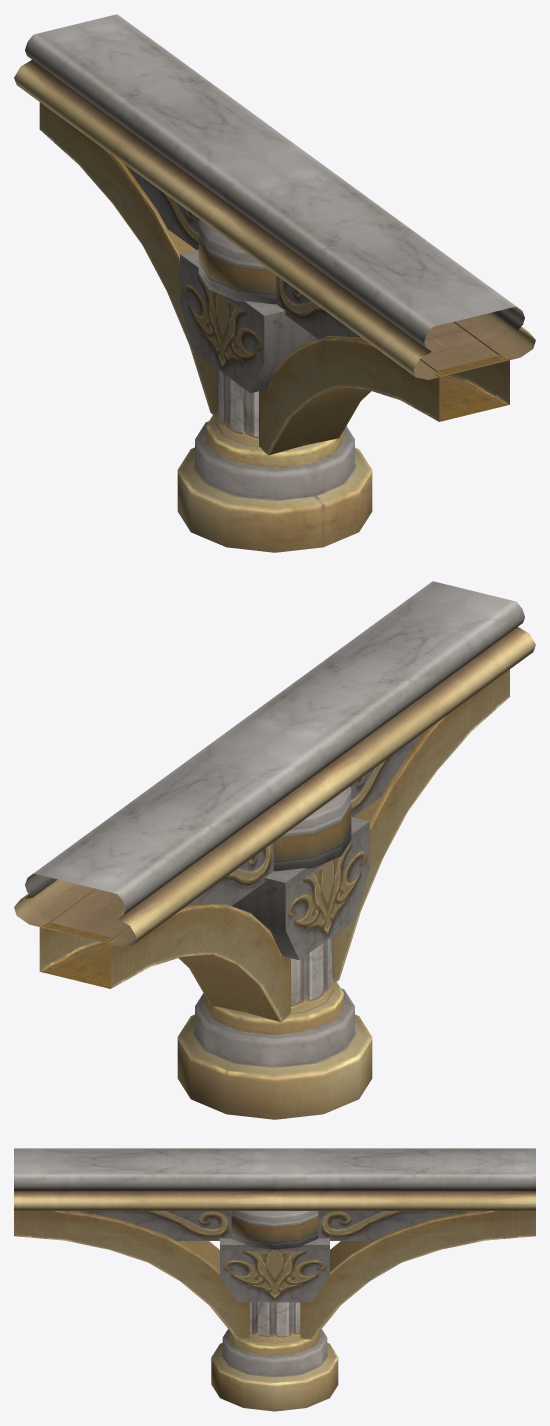
File: Main_Pillars_04.FBX
The picture shows the model from 3 angles, top to bottom: view 1: azimuth 30°, elevation 25°; view 2: azimuth 150°, elevation 25°; view 3: azimuth 270°, elevation 25°; orthographic projection. The views are drawn at different scales.
Visible parts, largest first — view 1: Main_Pillars_04; view 2: Main_Pillars_04; view 3: Main_Pillars_04.
Part boxes in pixels (x1,y1,x2,y2): Main_Pillars_04: (14,14,535,552); Main_Pillars_04: (14,581,535,1119); Main_Pillars_04: (14,1148,535,1411).
Bounding box in the file's own units: 1.15 × 2.23 × 4.74.
